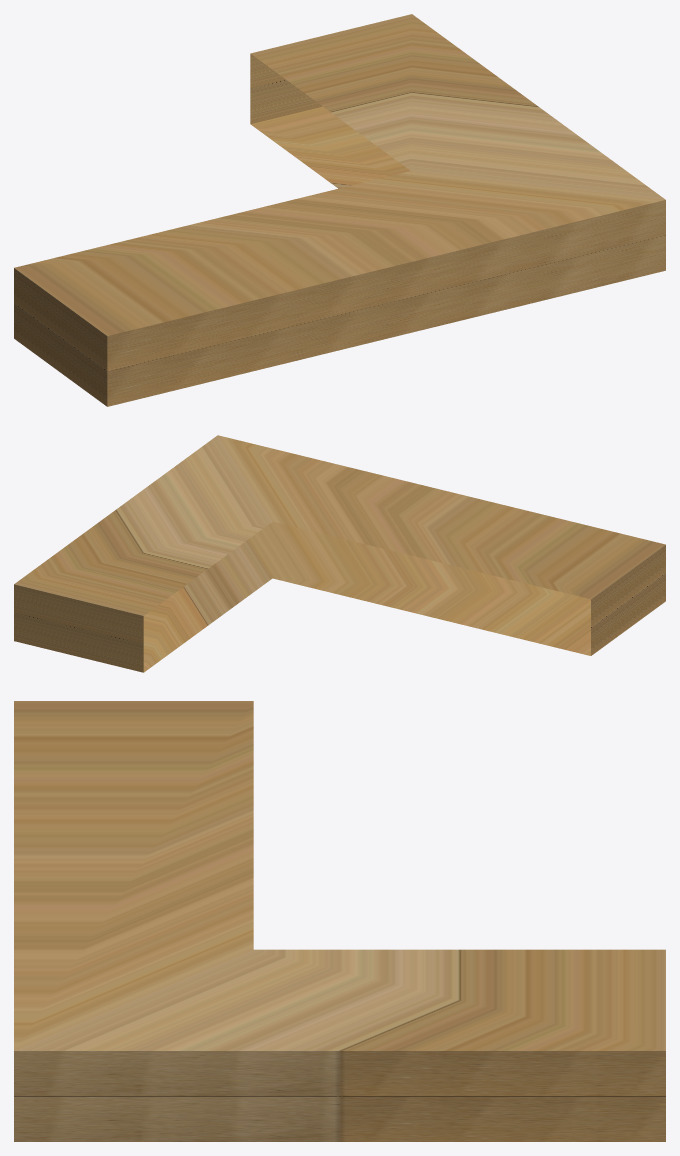
File: Plateforme_Coin.fbx
3 renders of one model, top to bottom at view 1: azimuth 30°, elevation 25°; view 2: azimuth 150°, elevation 25°; view 3: azimuth 270°, elevation 25°, orthographic. The views are drawn at different scales.
Visible parts, largest first — view 1: Tour_1; view 2: Tour_1; view 3: Tour_1.
Part boxes in pixels (x1,y1,x2,y2): Tour_1: [14, 14, 665, 406]; Tour_1: [14, 435, 665, 672]; Tour_1: [14, 701, 665, 1141].
Bounding box in the file's own units: 127 × 15.39 × 100.
1 material, 1 textured.
